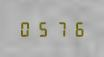five: (35, 20, 51, 37)
seven: (52, 20, 68, 37)
six: (69, 20, 85, 37)
zero: (18, 20, 34, 37)
